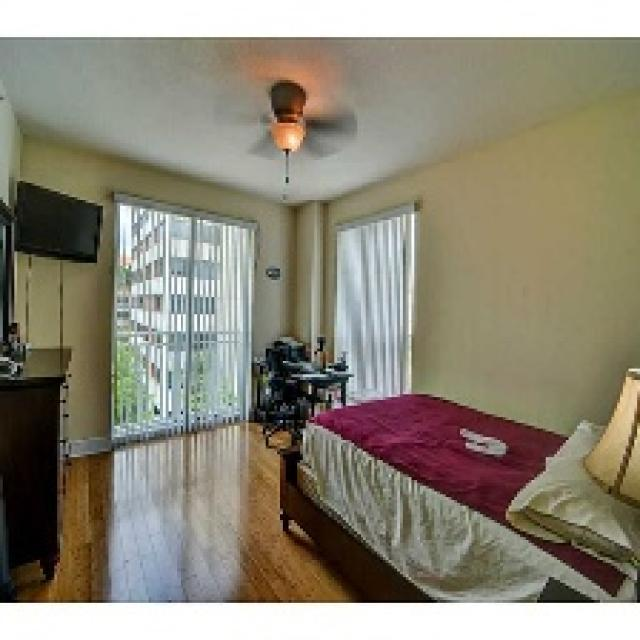Bed: (277, 391, 637, 600)
